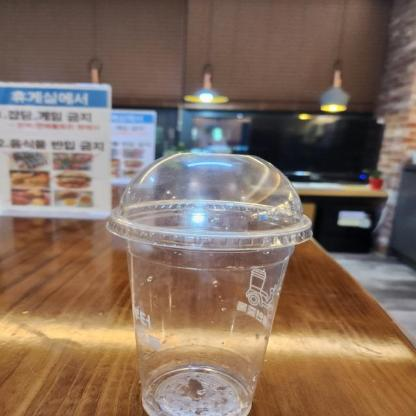Plastic Cup: (112, 140, 310, 416)
